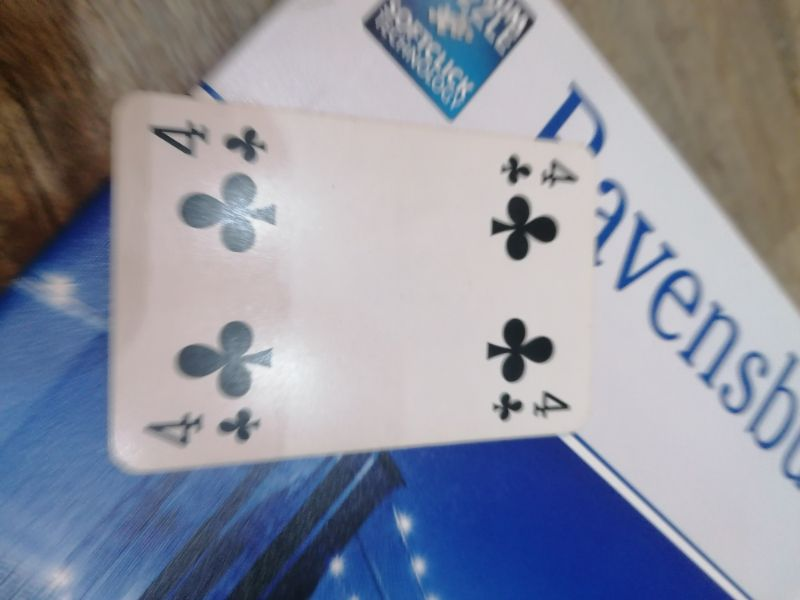4c: (144, 119, 275, 168), (132, 405, 268, 451), (491, 147, 582, 192), (486, 383, 575, 426)
